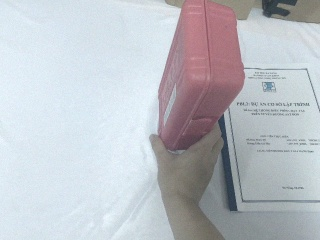box: (153, 1, 251, 161), (261, 1, 320, 28)
